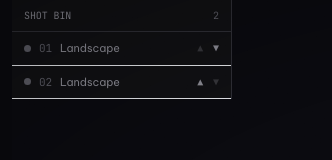
Test case: ShotBin › reorder errors › a subsequent successful reorder clears a previous error
This screenshot has width=332, height=160.
Click the 1st button "▼".
click(216, 48)  # box [209,43,223,53]
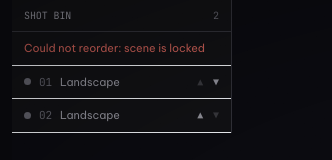
Result: the message "Could not reorder: scene is locked" is shown at [12,32,231,66]
Click the 1st button "▼".
click(216, 82)  # box [209,77,223,87]
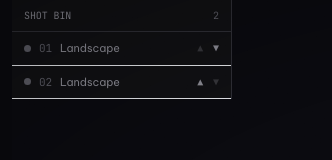
Result: the message "Could not reorder: scene is locked" is gone
